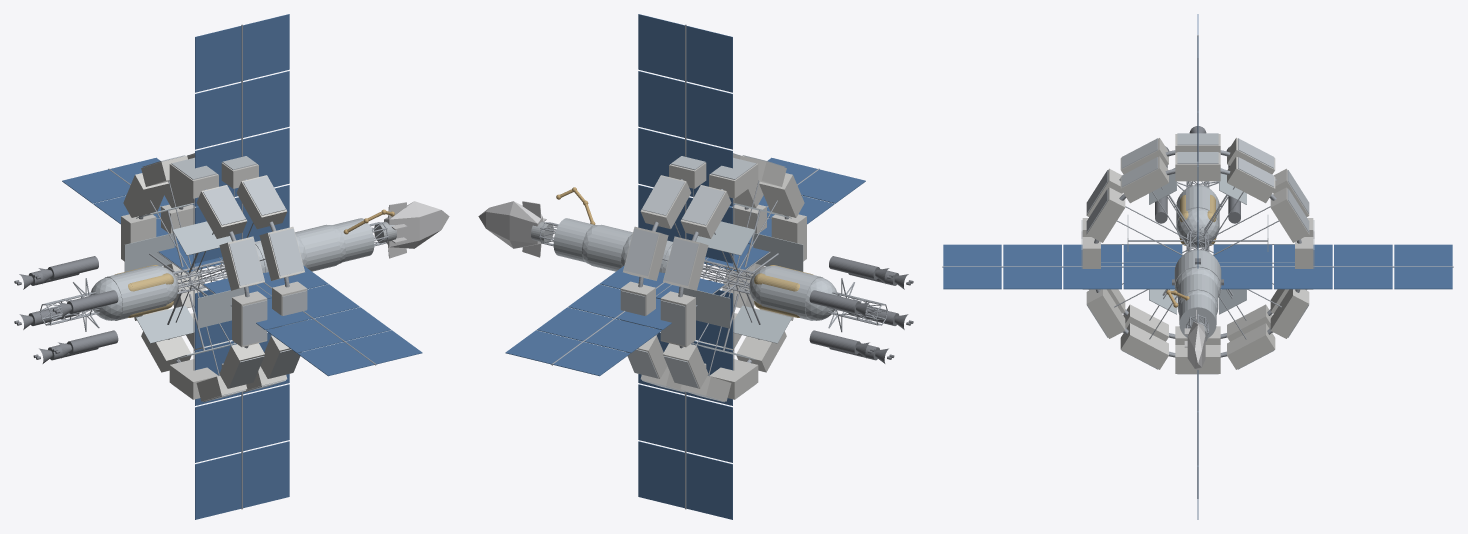
The model's file is asterion_v0_4_full_assembly.glb.
3 views of the same model, side by side, from view 1: azimuth 30°, elevation 25°; view 2: azimuth 150°, elevation 25°; view 3: azimuth 270°, elevation 25° (orthographic). The views are drawn at different scales.
Parts seen in each view (by area): view 1: AST-6114-SOLAR-PANEL, AST-6123-SOLAR-PANEL, AST-6124-SOLAR-PANEL, AST-6113-SOLAR-PANEL, AST-6112-SOLAR-PANEL, AST-6134-SOLAR-PANEL, AST-6133-SOLAR-PANEL, AST-1000-PRIMARY-STRUCTURE, AST-6144-SOLAR-PANEL, AST-9000-SKIMMER-AEROSHUTTLE, AST-6132-SOLAR-PANEL, AST-3100-SERVICE-MODULE (+43 smaller); view 2: AST-6114-SOLAR-PANEL, AST-6123-SOLAR-PANEL, AST-6124-SOLAR-PANEL, AST-6113-SOLAR-PANEL, AST-6112-SOLAR-PANEL, AST-6144-SOLAR-PANEL, AST-6143-SOLAR-PANEL, AST-1000-PRIMARY-STRUCTURE, AST-9000-SKIMMER-AEROSHUTTLE, AST-6134-SOLAR-PANEL, AST-6142-SOLAR-PANEL, AST-3100-SERVICE-MODULE (+43 smaller); view 3: AST-6133-SOLAR-PANEL, AST-6134-SOLAR-PANEL, AST-6143-SOLAR-PANEL, AST-6144-SOLAR-PANEL, AST-6131-SOLAR-PANEL, AST-6141-SOLAR-PANEL, AST-1000-PRIMARY-STRUCTURE, AST-6132-SOLAR-PANEL, AST-6142-SOLAR-PANEL, AST-22206-HAB-SECTOR, AST-22208-HAB-SECTOR, AST-22205-HAB-SECTOR (+17 smaller).
Boxes of the visible parts, box(x1,y1,x2,y2) form: AST-6114-SOLAR-PANEL: box(195, 14, 289, 92); AST-6123-SOLAR-PANEL: box(195, 384, 289, 462); AST-6124-SOLAR-PANEL: box(195, 441, 289, 519); AST-6113-SOLAR-PANEL: box(195, 71, 289, 149); AST-6112-SOLAR-PANEL: box(195, 128, 289, 206); AST-6134-SOLAR-PANEL: box(297, 330, 422, 376); AST-6133-SOLAR-PANEL: box(266, 307, 390, 352); AST-1000-PRIMARY-STRUCTURE: box(40, 180, 388, 375); AST-6144-SOLAR-PANEL: box(62, 157, 160, 203); AST-9000-SKIMMER-AEROSHUTTLE: box(384, 201, 449, 248); AST-6132-SOLAR-PANEL: box(256, 284, 359, 329); AST-3100-SERVICE-MODULE: box(105, 265, 167, 320); AST-6114-SOLAR-PANEL: box(638, 14, 732, 92); AST-6123-SOLAR-PANEL: box(638, 384, 732, 462); AST-6124-SOLAR-PANEL: box(638, 441, 732, 519); AST-6113-SOLAR-PANEL: box(638, 71, 732, 149); AST-6112-SOLAR-PANEL: box(638, 128, 732, 206); AST-6144-SOLAR-PANEL: box(505, 330, 630, 376); AST-6143-SOLAR-PANEL: box(537, 307, 661, 352); AST-1000-PRIMARY-STRUCTURE: box(539, 180, 887, 375); AST-9000-SKIMMER-AEROSHUTTLE: box(478, 201, 542, 248); AST-6134-SOLAR-PANEL: box(767, 157, 865, 203); AST-6142-SOLAR-PANEL: box(568, 284, 671, 329); AST-3100-SERVICE-MODULE: box(760, 265, 822, 320); AST-6133-SOLAR-PANEL: box(1003, 244, 1061, 289); AST-6134-SOLAR-PANEL: box(943, 244, 1001, 289); AST-6143-SOLAR-PANEL: box(1334, 244, 1392, 289); AST-6144-SOLAR-PANEL: box(1394, 244, 1452, 289); AST-6131-SOLAR-PANEL: box(1123, 244, 1182, 289); AST-6141-SOLAR-PANEL: box(1213, 244, 1272, 289); AST-1000-PRIMARY-STRUCTURE: box(1098, 154, 1297, 353); AST-6132-SOLAR-PANEL: box(1063, 244, 1121, 289); AST-6142-SOLAR-PANEL: box(1274, 244, 1332, 289); AST-22206-HAB-SECTOR: box(1120, 323, 1168, 369); AST-22208-HAB-SECTOR: box(1227, 323, 1275, 369); AST-22205-HAB-SECTOR: box(1086, 289, 1125, 338).
Size of the model in its own units: 51725 by 57800 by 57800.
